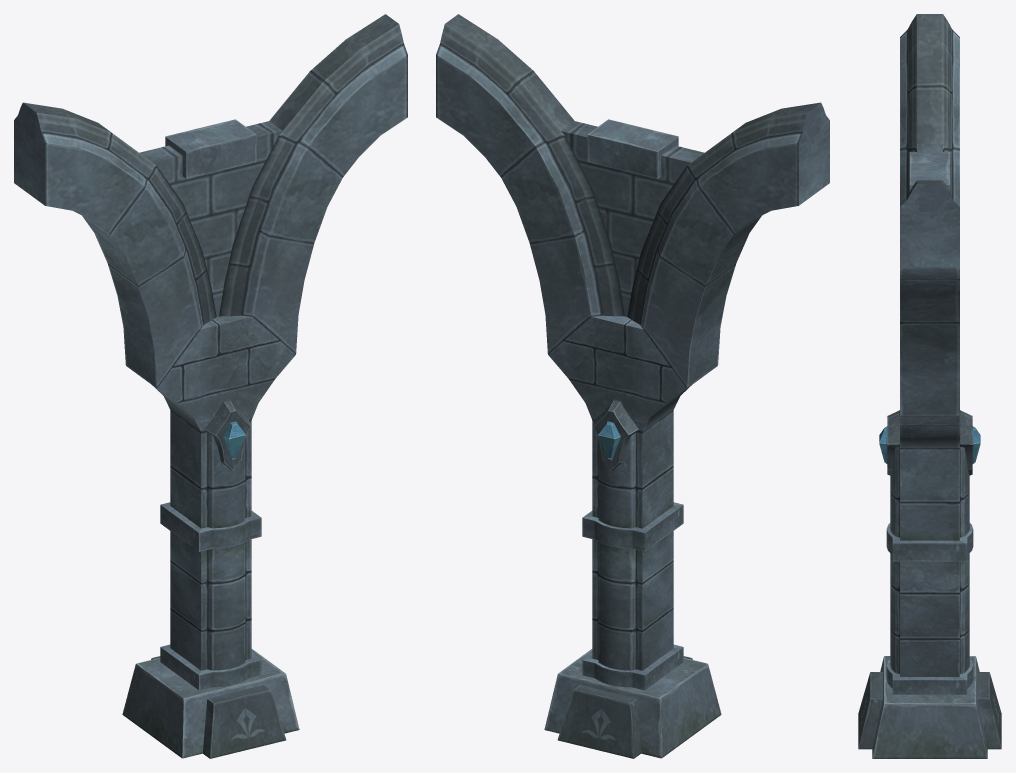
File: pillar1.fbx
The picture shows the model from 3 angles, left to right: view 1: azimuth 30°, elevation 25°; view 2: azimuth 150°, elevation 25°; view 3: azimuth 270°, elevation 25°; orthographic projection. The views are drawn at different scales.
Visible parts, largest first — view 1: polySurface1288; view 2: polySurface1288; view 3: polySurface1288.
Part boxes in pixels (x1,y1,x2,y2): polySurface1288: (14,14,407,758); polySurface1288: (436,14,829,758); polySurface1288: (858,14,1001,758).
Size of the model in its own units: 3.15 by 5.48 by 1.12.
